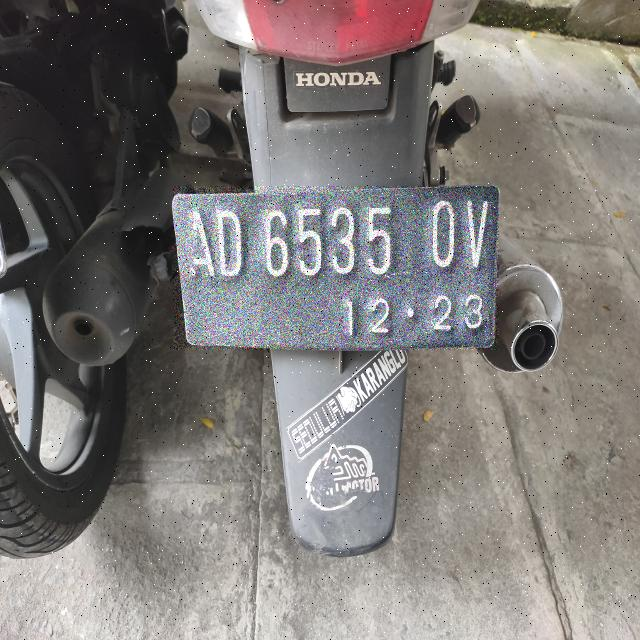plate: (174, 187, 498, 349)
